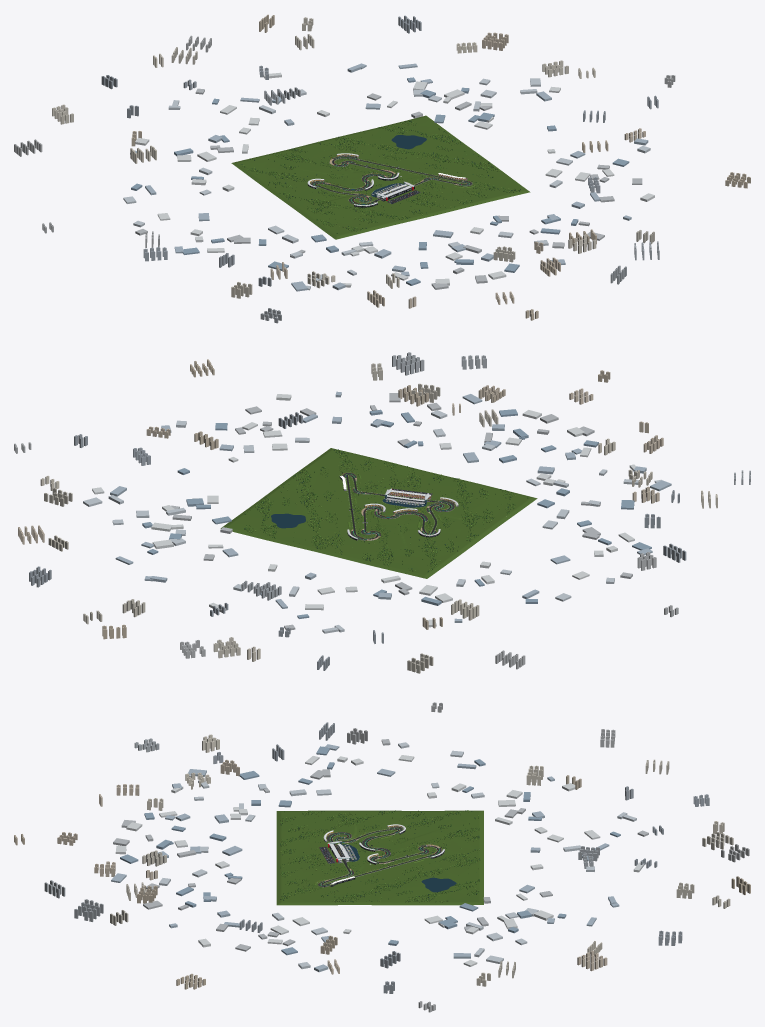
Rendered from shanghai-apex.glb.
3 views of the same model, one above another, from view 1: azimuth 30°, elevation 25°; view 2: azimuth 150°, elevation 25°; view 3: azimuth 270°, elevation 25° (orthographic). The views are drawn at different scales.
Parts seen in each view (by area): view 1: skyline, terrain_03, terrain_02, terrain_23, terrain_00, terrain_33, terrain_13, terrain_01, terrain_32, terrain_20, terrain_31, terrain_21 (+5 smaller); view 2: skyline, terrain_00, terrain_02, terrain_20, terrain_03, terrain_10, terrain_01, terrain_32, terrain_23, terrain_31, terrain_33, terrain_21 (+5 smaller); view 3: skyline, terrain_33, terrain_31, terrain_00, terrain_32, terrain_23, terrain_02, terrain_20, terrain_03, terrain_13, terrain_10, terrain_21 (+5 smaller).
Part boxes in pixels (<box>): skyline: <box>14,14,750,323</box>; terrain_03: <box>310,207,384,239</box>; terrain_02: <box>284,188,358,220</box>; terrain_23: <box>410,184,481,215</box>; terrain_00: <box>231,151,306,182</box>; terrain_33: <box>458,173,530,203</box>; terrain_13: <box>359,197,433,227</box>; terrain_01: <box>258,169,332,201</box>; terrain_32: <box>430,153,503,183</box>; terrain_20: <box>329,127,397,157</box>; terrain_31: <box>409,135,477,164</box>; terrain_21: <box>356,147,429,175</box>; skyline: <box>14,352,750,673</box>; terrain_00: <box>375,545,454,578</box>; terrain_02: <box>430,504,509,538</box>; terrain_20: <box>272,521,350,553</box>; terrain_03: <box>458,485,537,517</box>; terrain_10: <box>323,533,401,566</box>; terrain_01: <box>403,525,481,558</box>; terrain_32: <box>276,467,352,499</box>; terrain_23: <box>357,460,432,490</box>; terrain_31: <box>249,488,326,515</box>; terrain_33: <box>304,448,381,478</box>; terrain_21: <box>305,500,374,531</box>; skyline: <box>14,702,750,1012</box>; terrain_33: <box>276,880,327,905</box>; terrain_31: <box>380,880,431,905</box>; terrain_00: <box>431,810,483,834</box>; terrain_32: <box>328,880,380,905</box>; terrain_23: <box>276,857,327,881</box>; terrain_02: <box>328,810,380,833</box>; terrain_20: <box>431,857,483,881</box>; terrain_03: <box>276,810,327,834</box>; terrain_13: <box>276,833,327,858</box>; terrain_10: <box>431,833,483,857</box>; terrain_21: <box>380,857,431,880</box>.
Size of what is drawn, in the model's own units: 6604 by 108 by 6755.
Materials: 57 (18 with a texture image).
